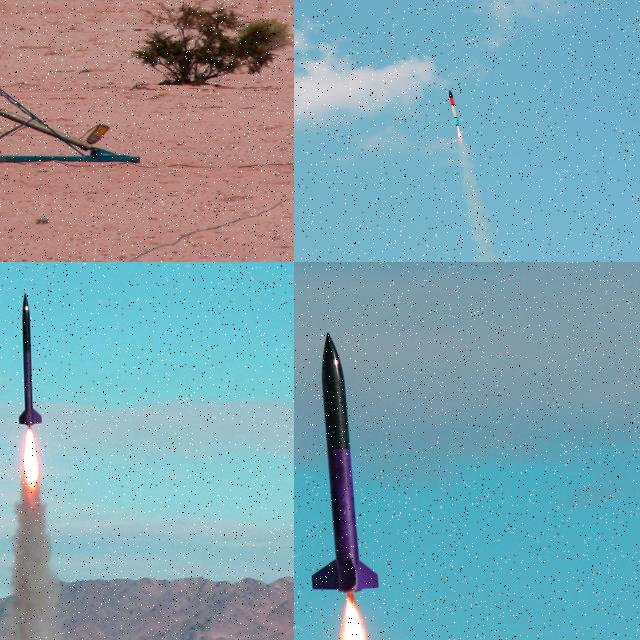Rocket: (310, 332, 381, 594), (18, 292, 43, 427), (449, 89, 464, 126)
